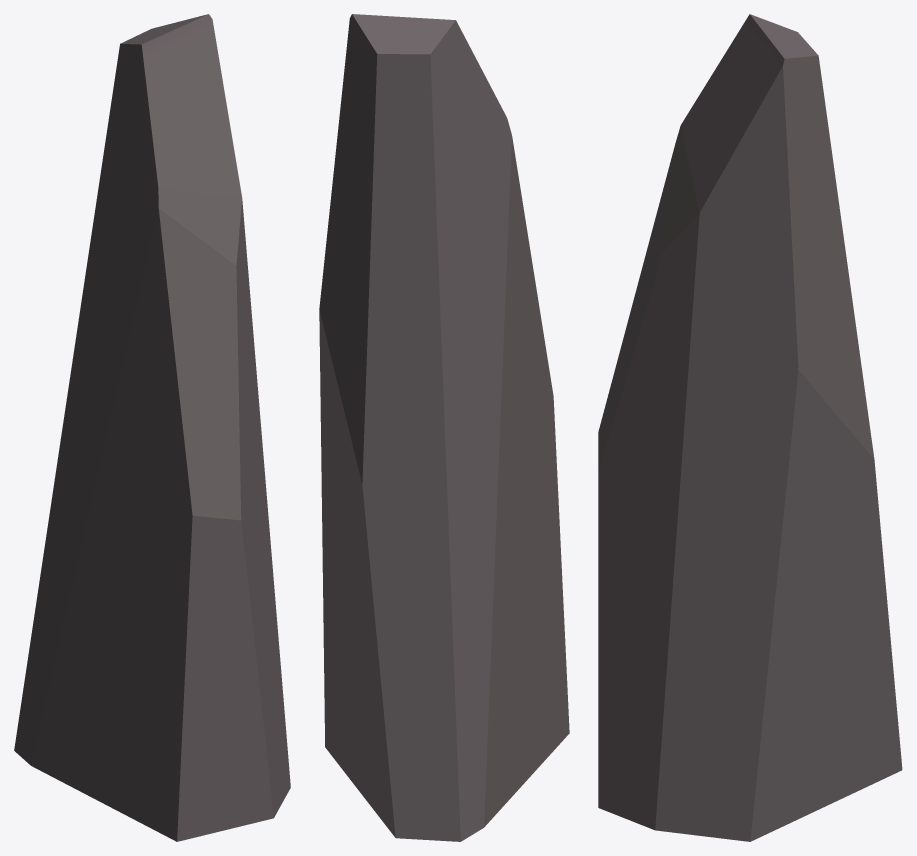
File: Rock_Sharp_m_04.fbx
3 views of the same model, side by side, from view 1: azimuth 30°, elevation 25°; view 2: azimuth 150°, elevation 25°; view 3: azimuth 270°, elevation 25° (orthographic). The views are drawn at different scales.
Visible parts, largest first — view 1: Rock_Sharp_m_04; view 2: Rock_Sharp_m_04; view 3: Rock_Sharp_m_04.
Part boxes in pixels (box(x1,y1,x2,y2)): Rock_Sharp_m_04: box(14, 14, 290, 841); Rock_Sharp_m_04: box(319, 14, 569, 841); Rock_Sharp_m_04: box(598, 14, 902, 841).
Bounding box in the file's own units: 48.14 × 173 × 62.42.
